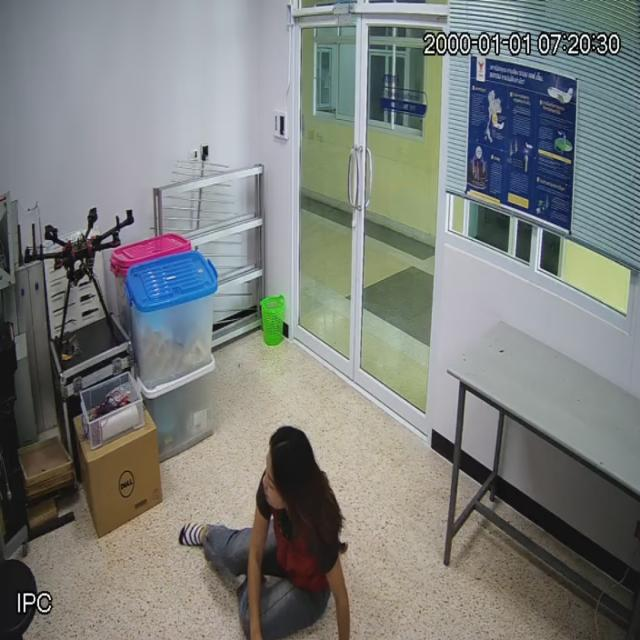normal: (188, 412, 362, 631)
